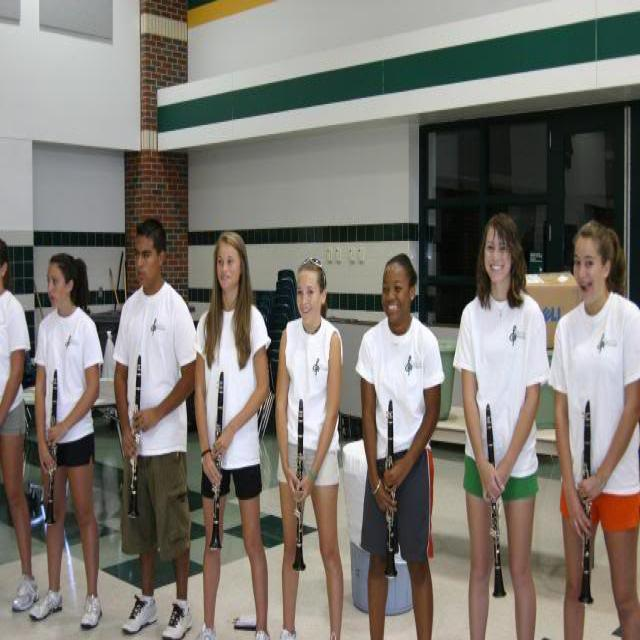clarinet: (484, 401, 510, 600), (577, 398, 597, 606), (207, 371, 228, 552), (126, 354, 146, 520), (290, 396, 308, 574), (382, 397, 399, 580), (43, 369, 62, 529)
